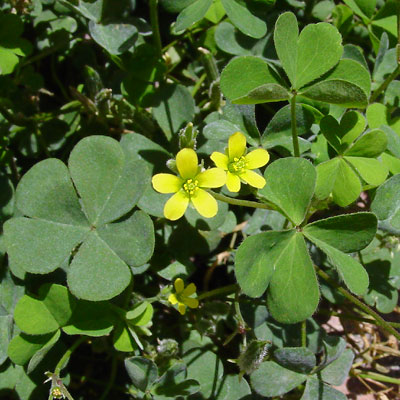oxalis: (224, 37, 397, 180), (17, 145, 160, 309), (236, 178, 359, 332)
